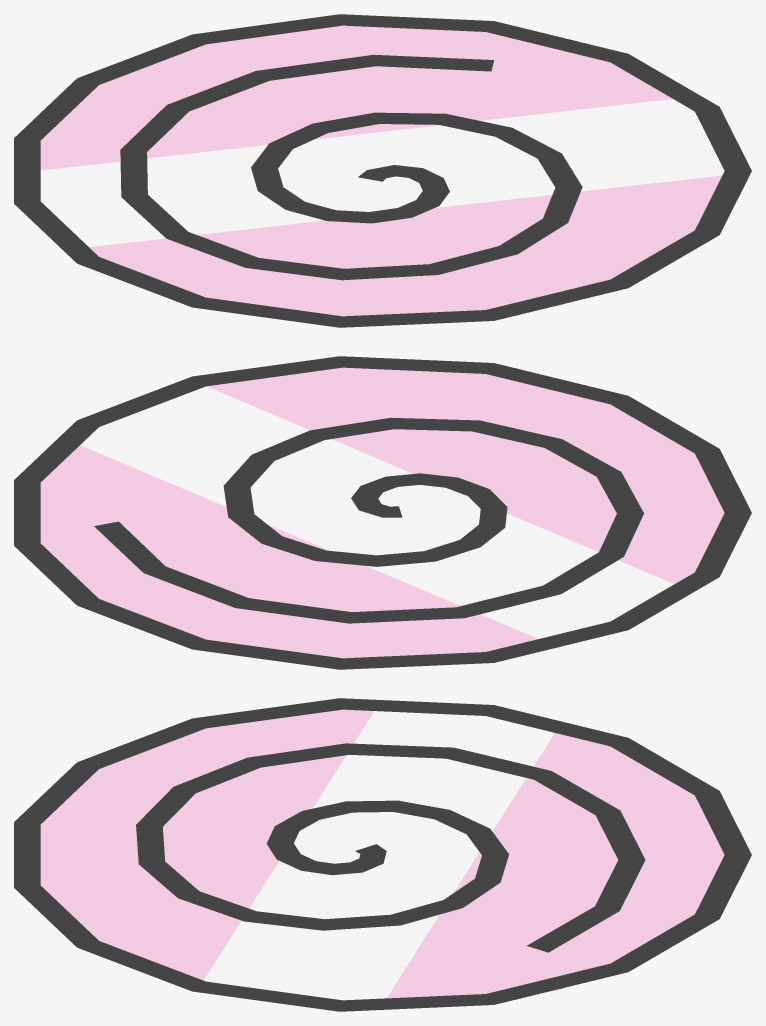
File: glasses.glb
3 views of the same model, one above another, from view 1: azimuth 30°, elevation 25°; view 2: azimuth 150°, elevation 25°; view 3: azimuth 270°, elevation 25° (orthographic).
Parts seen in each view (by area): view 1: Circle, Plane.002; view 2: Circle, Plane.002; view 3: Circle, Plane.002.
Boxes of the visible parts, left/top/right/bottom form: Circle: left=40, top=25, right=724, bottom=326; Plane.002: left=14, top=14, right=751, bottom=327; Circle: left=40, top=367, right=724, bottom=668; Plane.002: left=14, top=356, right=751, bottom=669; Circle: left=40, top=709, right=724, bottom=1010; Plane.002: left=14, top=698, right=751, bottom=1011.
Bounding box in the file's own units: 6.48 × 0.0229 × 6.44.
Materials: 1 (1 with a texture image).
